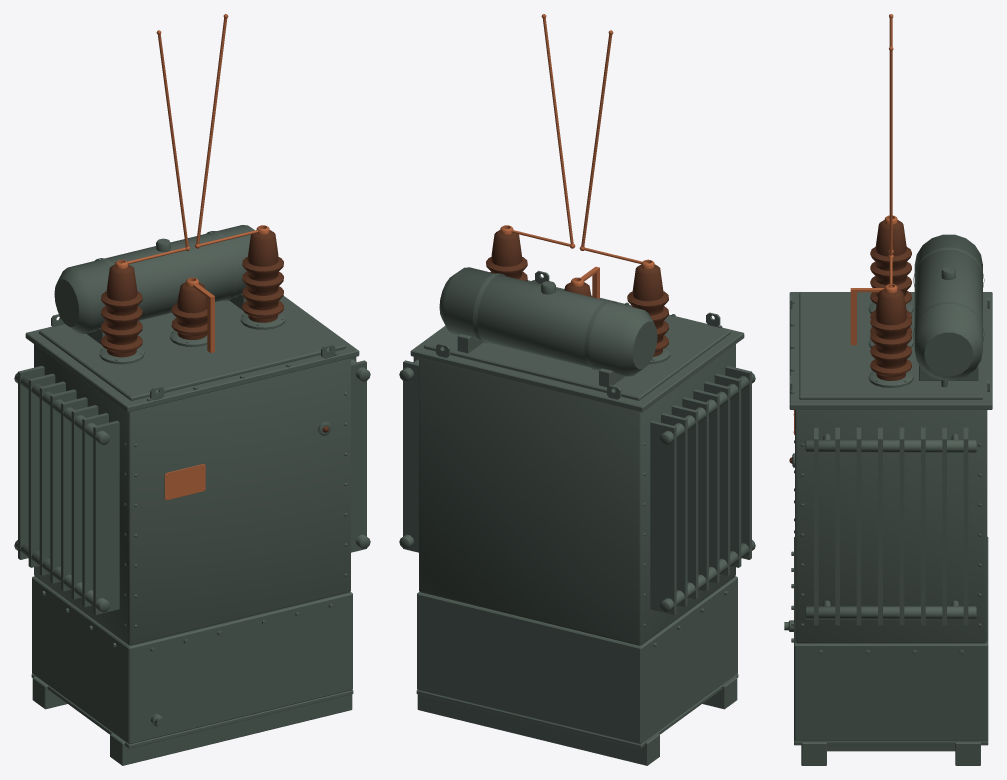
Rendered from transformer.glb.
The picture shows the model from 3 angles, left to right: view 1: azimuth 30°, elevation 25°; view 2: azimuth 150°, elevation 25°; view 3: azimuth 270°, elevation 25°; orthographic projection.
Visible parts, largest first — view 1: transformer; view 2: transformer; view 3: transformer.
Boxes of the visible parts, x1,y1,x2,y2 form: transformer: [14, 14, 370, 765]; transformer: [399, 14, 755, 765]; transformer: [784, 14, 992, 765].
Size of the model in its own units: 1.46 by 3.51 by 0.975.
